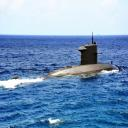submarine: (16, 45, 122, 84)
